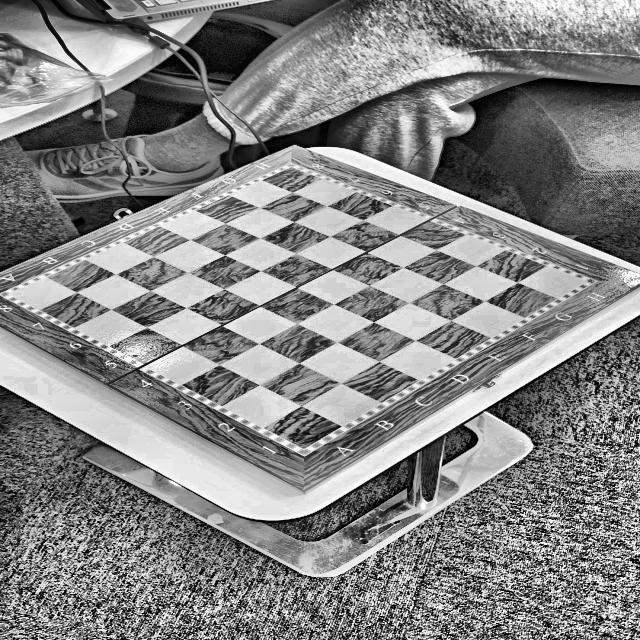chessboard: (0, 141, 639, 491)
